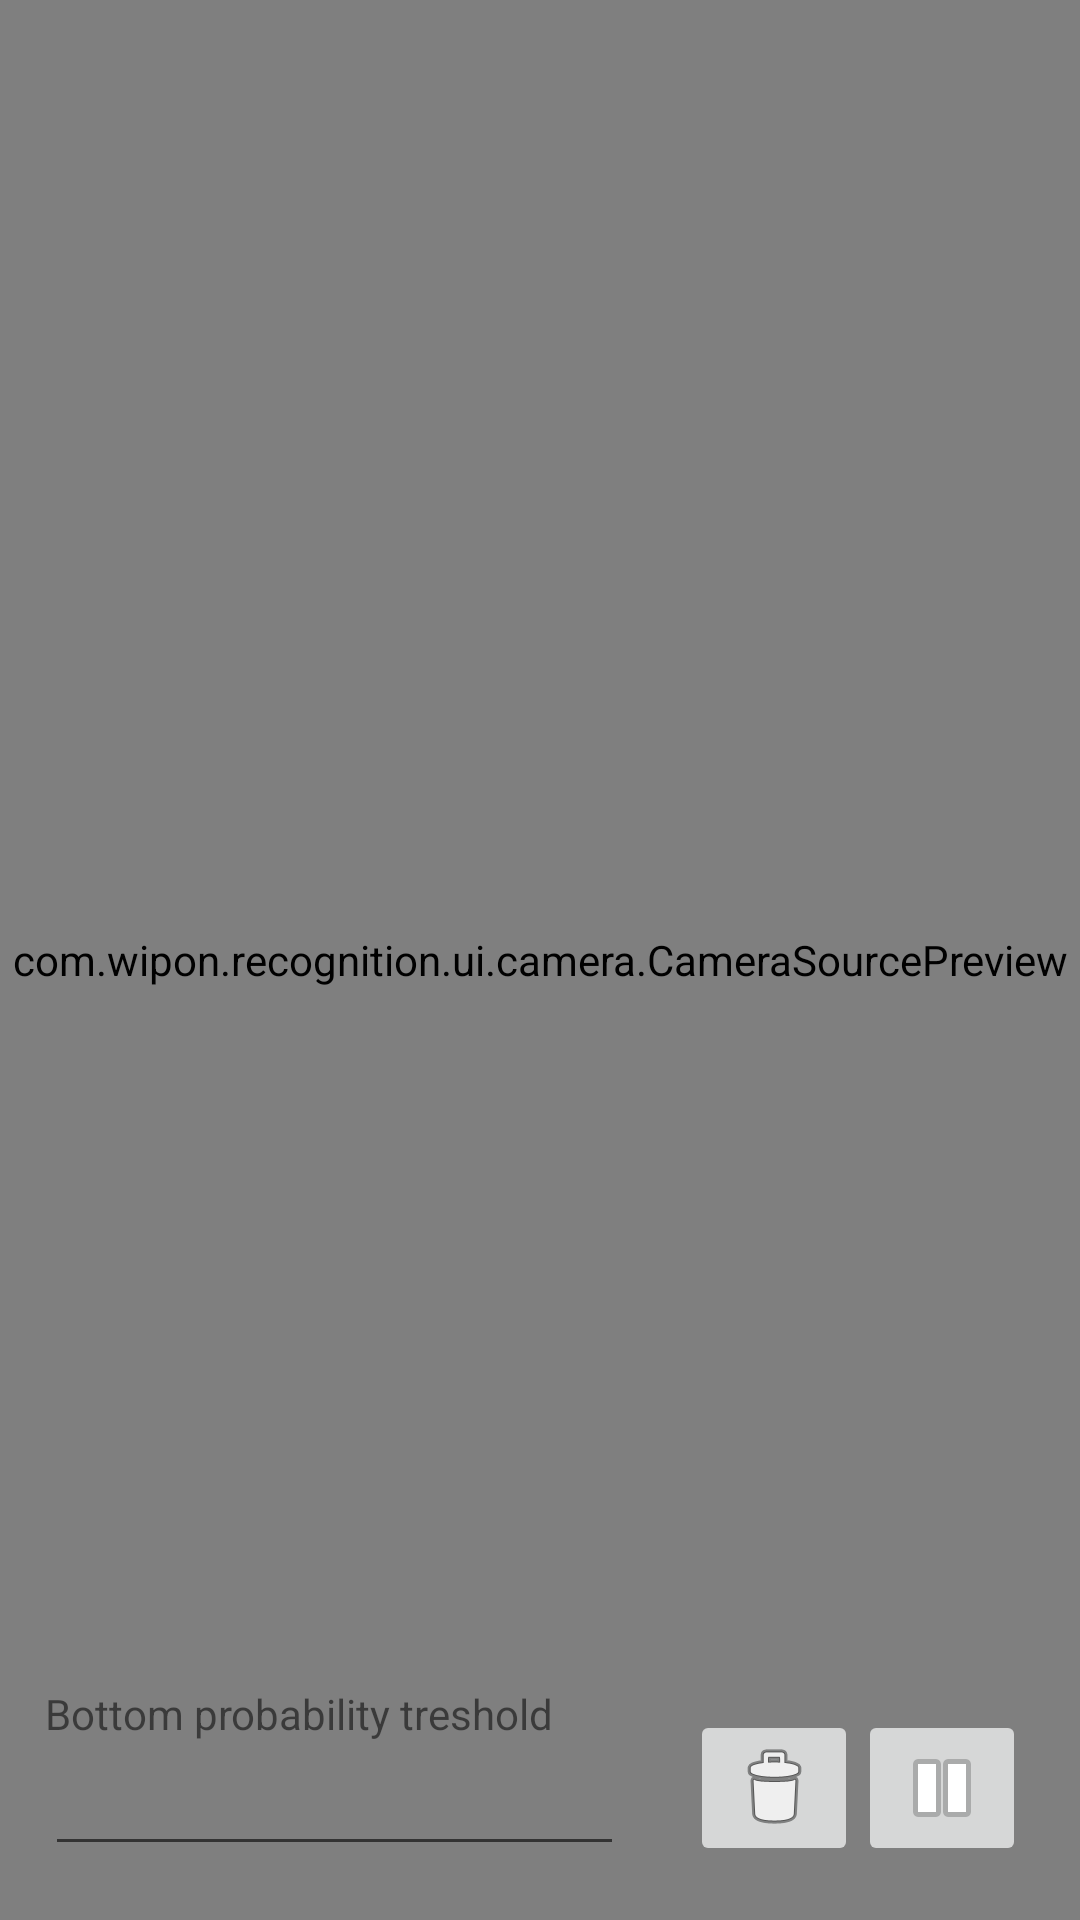

Named icons in this screenshot (1080px×1920px) and their bounding boxes, box(x1, y1, x2, y2):
Clear stack: box(702, 1728, 846, 1848)
